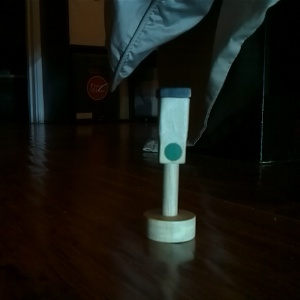traffic light green: (140, 83, 198, 244)
